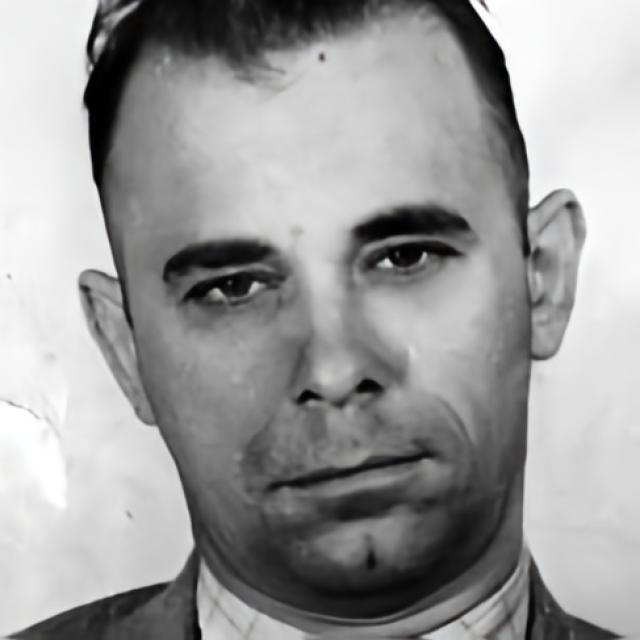neutral: (99, 0, 528, 594)
